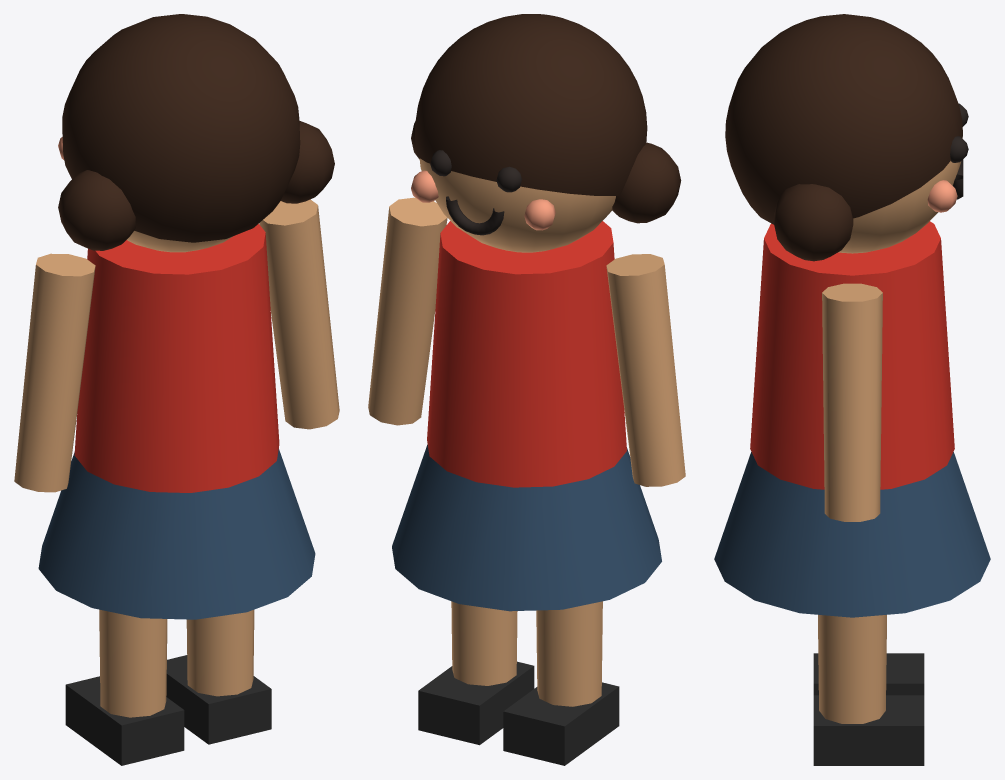
The model's file is person_e2382b.fbx.
3 renders of one model, left to right at view 1: azimuth 30°, elevation 25°; view 2: azimuth 150°, elevation 25°; view 3: azimuth 270°, elevation 25°, orthographic. The views are drawn at different scales.
Visible parts, largest first — view 1: M__person_e2382b-body, M__person_e2382b-armL, M__person_e2382b-armR, M__person_e2382b-shinL, M__person_e2382b-shinR, M__person_e2382b-legL; view 2: M__person_e2382b-body, M__person_e2382b-armL, M__person_e2382b-armR, M__person_e2382b-shinL, M__person_e2382b-shinR, M__person_e2382b-legL; view 3: M__person_e2382b-body, M__person_e2382b-armR, M__person_e2382b-shinR, M__person_e2382b-shinL, M__person_e2382b-legR.
Boxes of the visible parts, x1,y1,x2,y2 form: M__person_e2382b-body: (38,14,334,619); M__person_e2382b-armL: (14,253,95,492); M__person_e2382b-armR: (259,199,339,429); M__person_e2382b-shinL: (65,615,184,765); M__person_e2382b-shinR: (166,610,271,744); M__person_e2382b-legL: (99,609,163,626); M__person_e2382b-body: (392,14,681,611); M__person_e2382b-armL: (606,254,685,486); M__person_e2382b-armR: (368,197,447,425); M__person_e2382b-shinL: (503,607,619,765); M__person_e2382b-shinR: (418,601,534,745); M__person_e2382b-legL: (540,601,602,618); M__person_e2382b-body: (714,14,990,617); M__person_e2382b-armR: (822,283,882,521); M__person_e2382b-shinR: (813,621,924,765); M__person_e2382b-shinL: (813,653,924,695); M__person_e2382b-legR: (818,615,886,634).
Bounding box in the file's own units: 0.6547 × 1.4 × 0.5.
